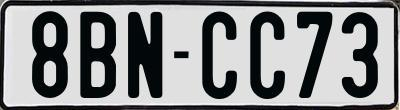3: (342, 12, 378, 100)
7: (297, 10, 337, 96)
8: (30, 10, 69, 102)
B: (78, 9, 117, 97)
C: (248, 11, 287, 103), (201, 10, 238, 99)
N: (127, 12, 165, 102)
